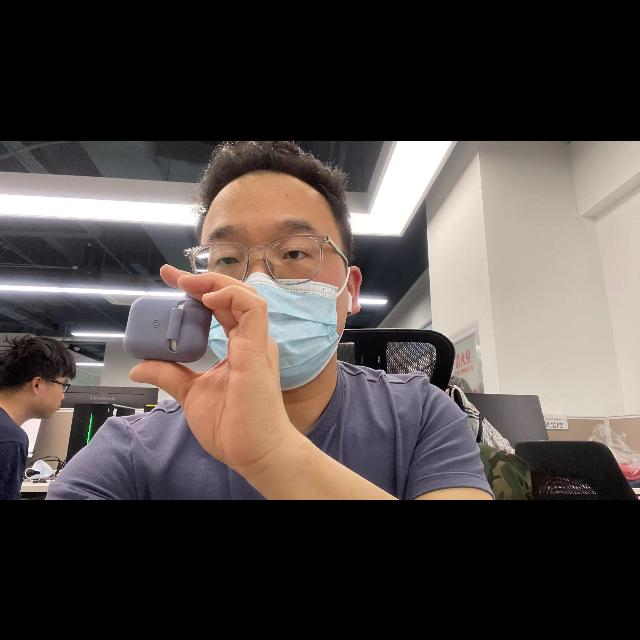airpods: (120, 295, 213, 362)
